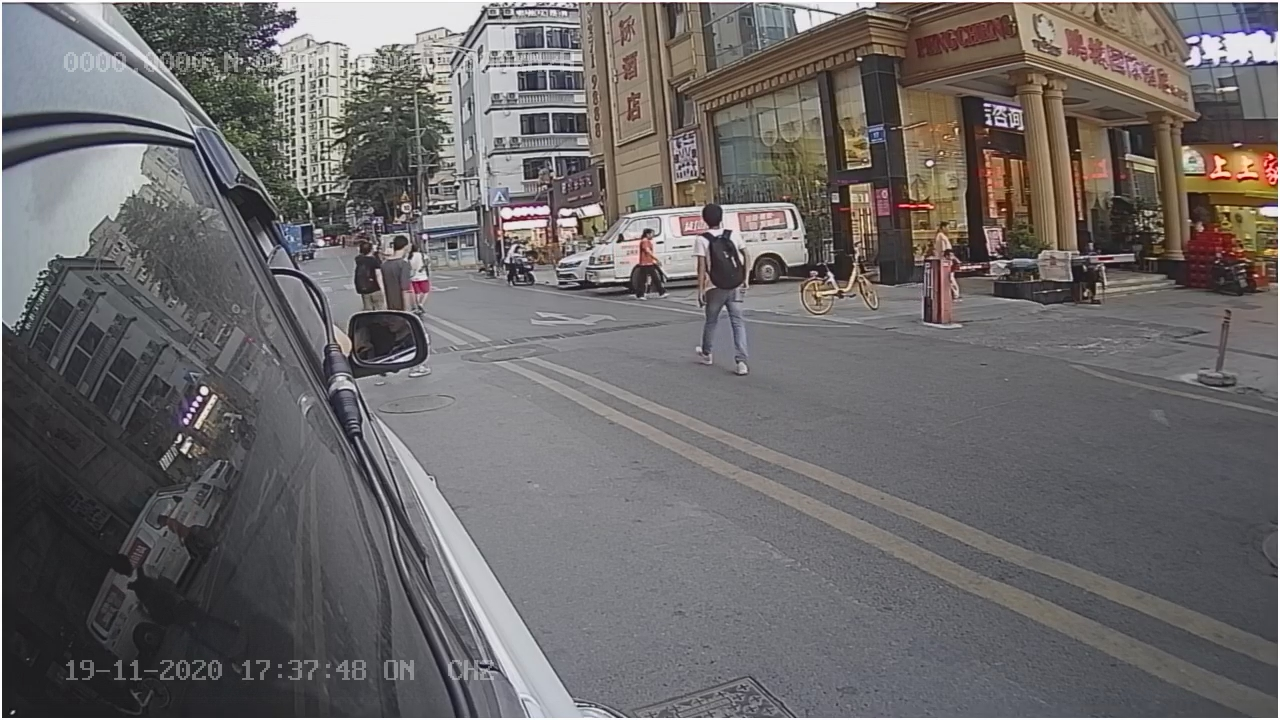person: (687, 202, 756, 363)
